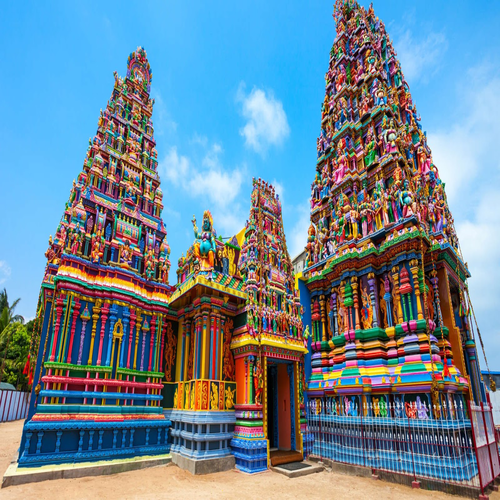Temple: (257, 6, 489, 470), (34, 49, 238, 452)
